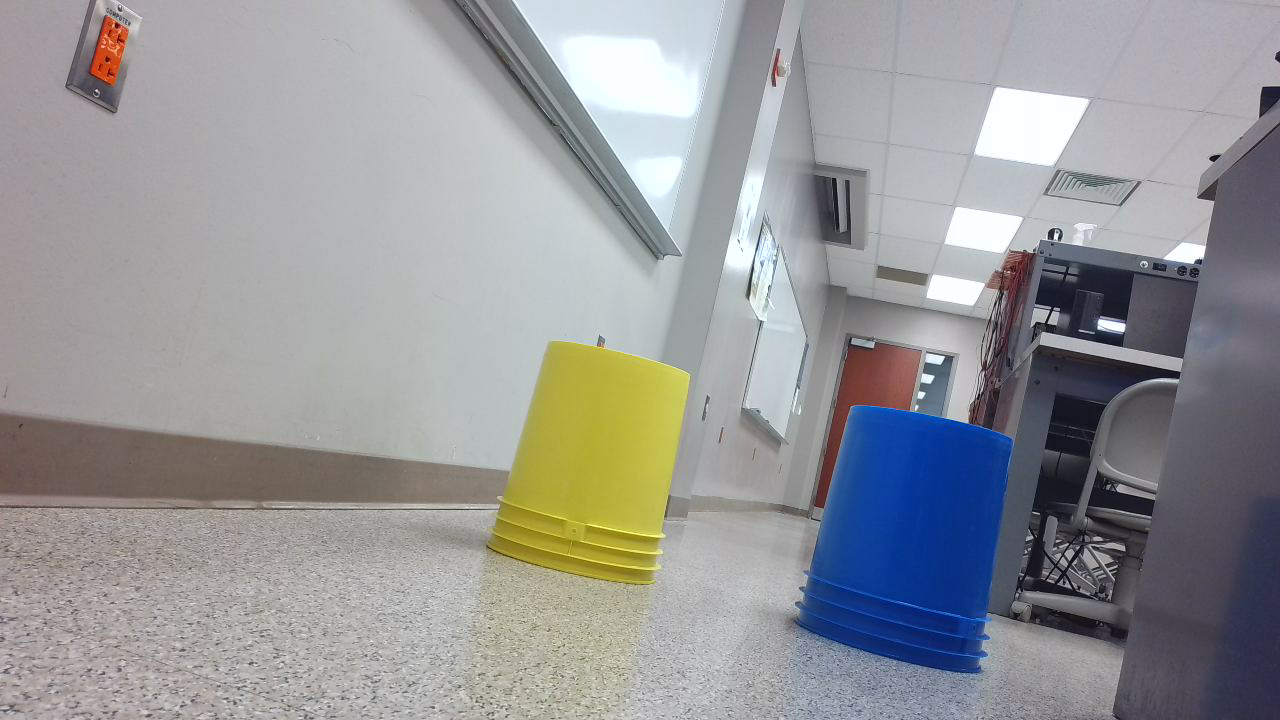blue_bucket: (793, 405, 1025, 684)
yellow_bucket: (485, 341, 700, 596)
